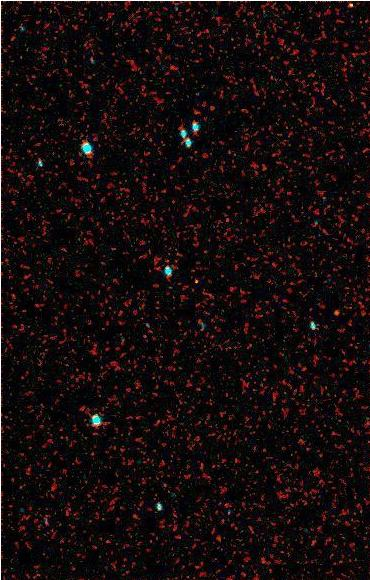star: (322, 297, 352, 327)
